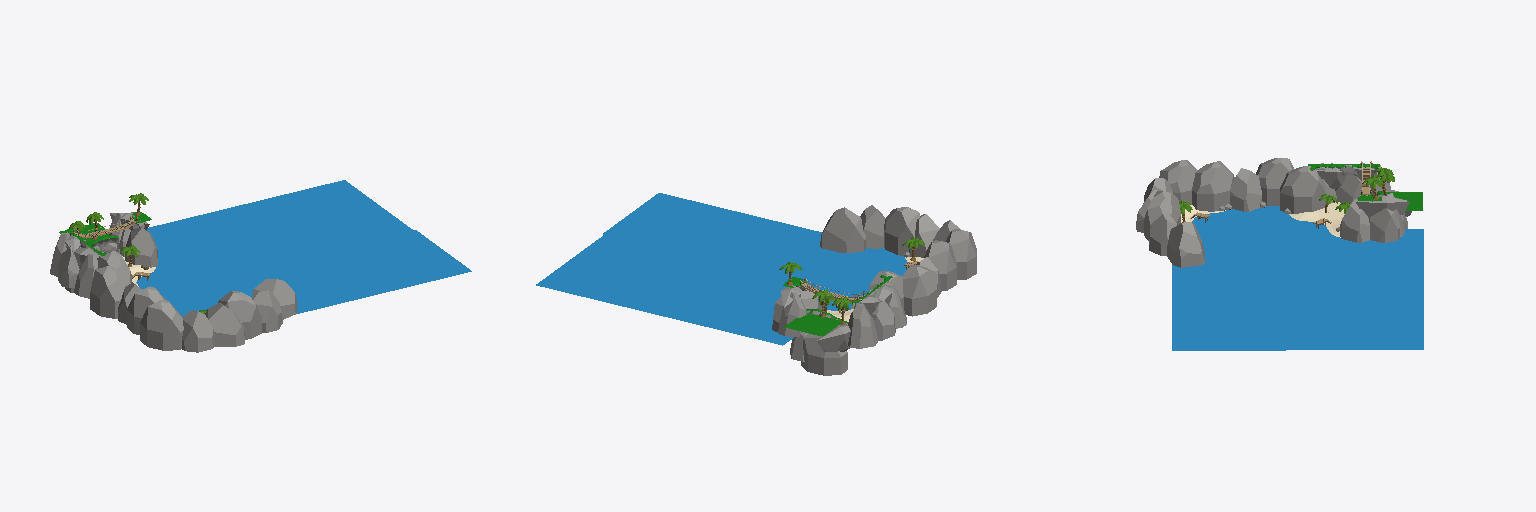
The model's file is beach.obj.
3 renders of one model, left to right at view 1: azimuth 30°, elevation 25°; view 2: azimuth 150°, elevation 25°; view 3: azimuth 270°, elevation 25°, orthographic.
Visible parts, largest first — view 1: mergedBlocks; view 2: mergedBlocks; view 3: mergedBlocks.
Boxes of the visible parts, x1,y1,x2,y2 form: mergedBlocks: [50, 180, 471, 352]; mergedBlocks: [536, 193, 976, 375]; mergedBlocks: [1136, 158, 1423, 350].
Size of the model in its own units: 56.42 by 14.41 by 43.21.